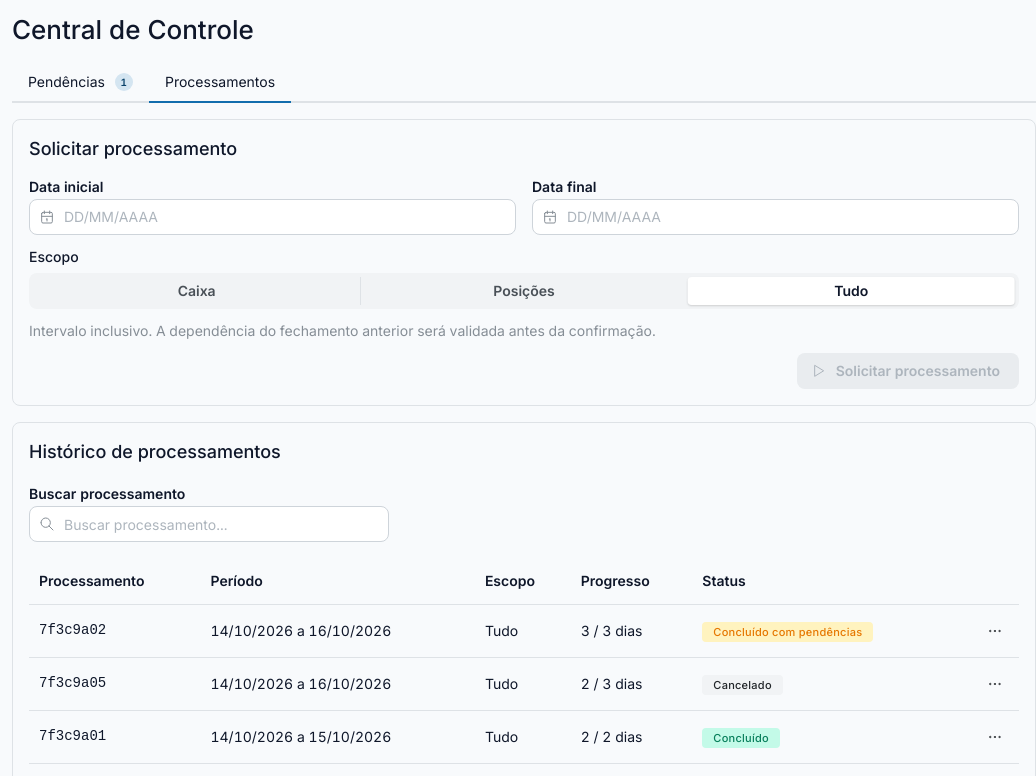
Test: Processamentos: history (§11.1, §10.3) › §11.1 filters the history
This screenshot has width=1036, height=776.
In the field labelled "Buscar processamento": x=209, y=524 [29, 506, 389, 542], type "falhou"
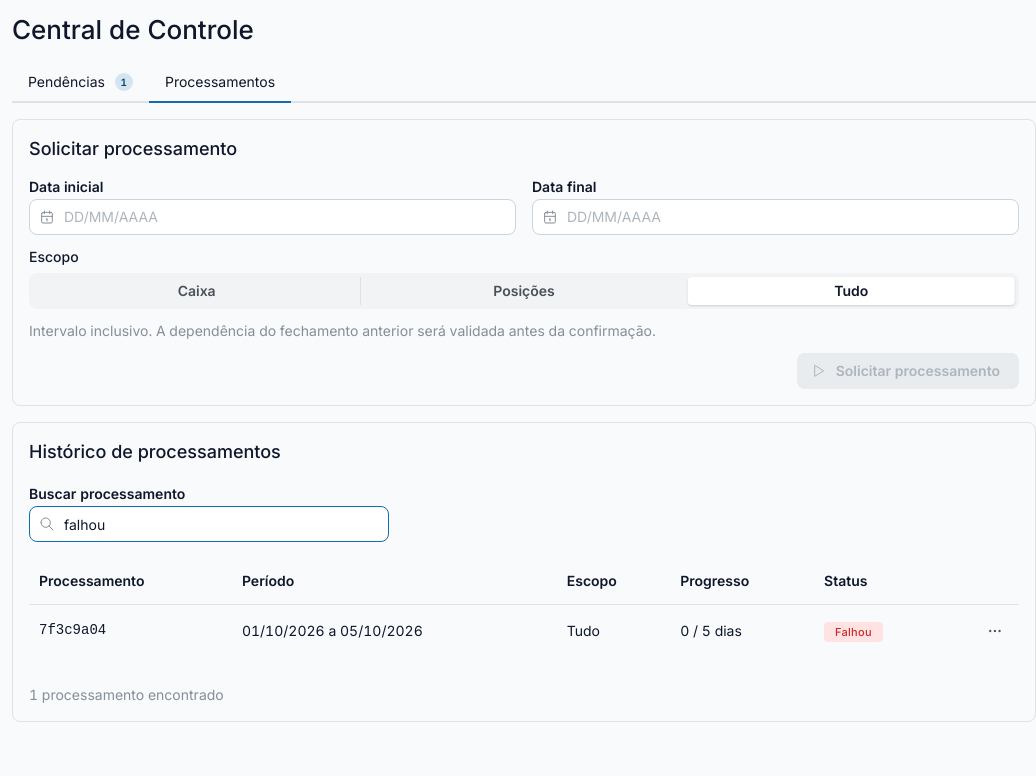
Expected: the text "1 processamento encontrado" is shown, [29, 686, 224, 703]
Expected: the text "Concluído" is gone
